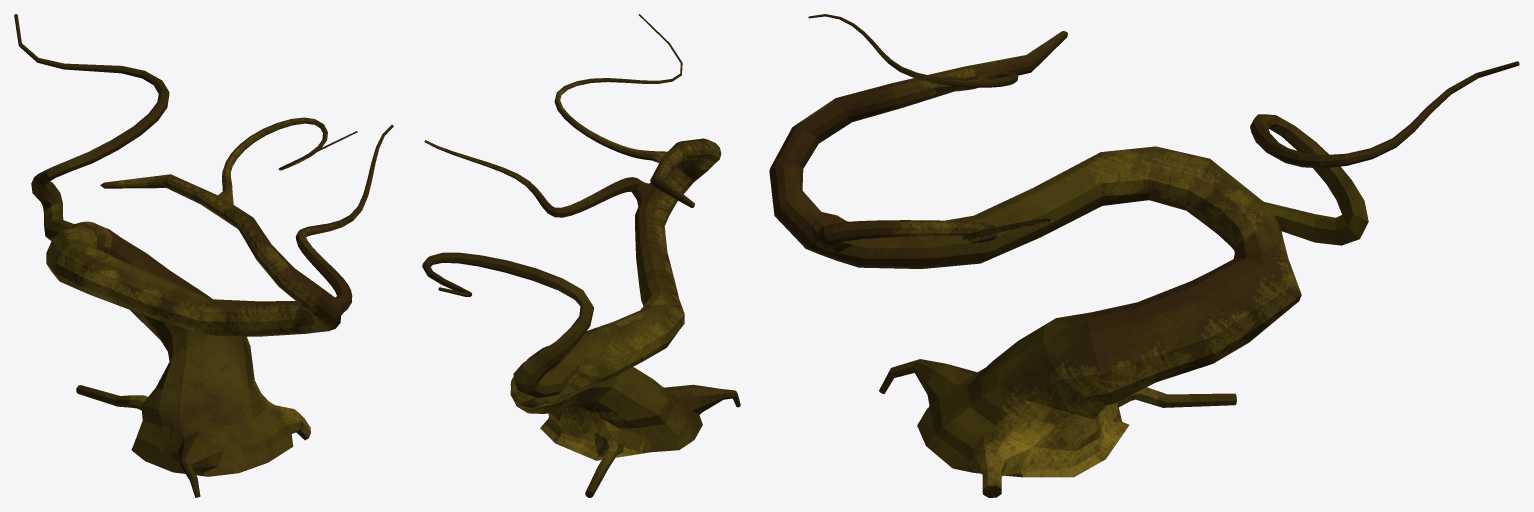
File: arbre_game_42.fbx
The picture shows the model from 3 angles, left to right: view 1: azimuth 30°, elevation 25°; view 2: azimuth 150°, elevation 25°; view 3: azimuth 270°, elevation 25°; orthographic projection. The views are drawn at different scales.
Visible parts, largest first — view 1: arbre; view 2: arbre; view 3: arbre.
Part boxes in pixels (<box>): arbre: <box>14,14,393,497</box>; arbre: <box>422,14,740,497</box>; arbre: <box>769,14,1519,497</box>.
Size of the model in its own units: 483 by 819 by 567.
